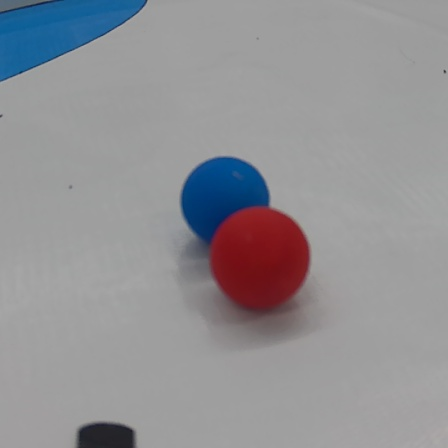blue: (175, 154, 271, 238)
blue_base: (0, 0, 165, 77)
red: (207, 202, 315, 311)
